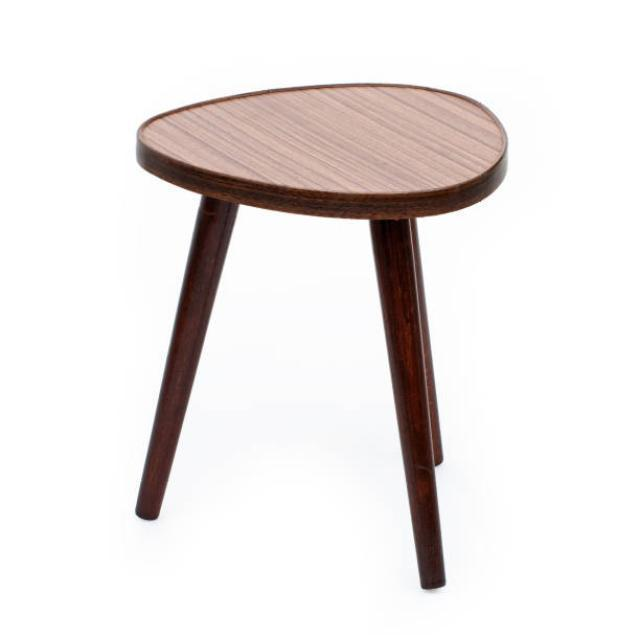table: (133, 80, 508, 590)
